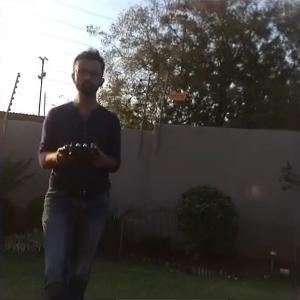follow: (35, 42, 124, 298)
